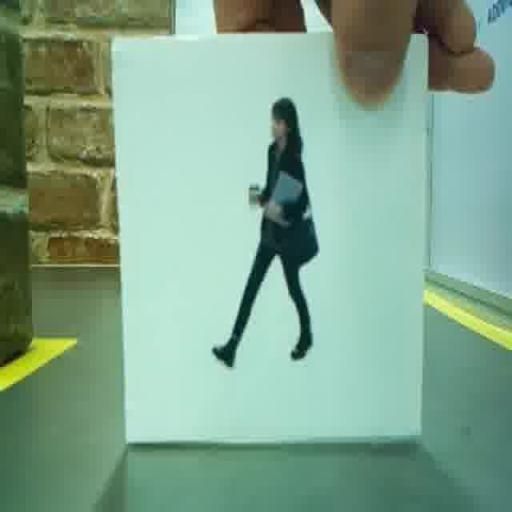human: (212, 97, 318, 366)
